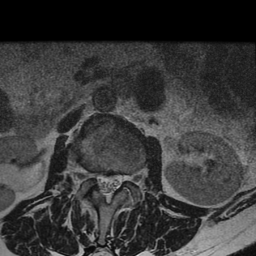CCS_normal: (103, 164, 113, 211)
LFS_normal: (122, 161, 133, 192)
LLS_normal: (113, 163, 122, 197)
RFS_stenosis: (87, 160, 95, 188)
RLS_normal: (94, 164, 103, 197)
